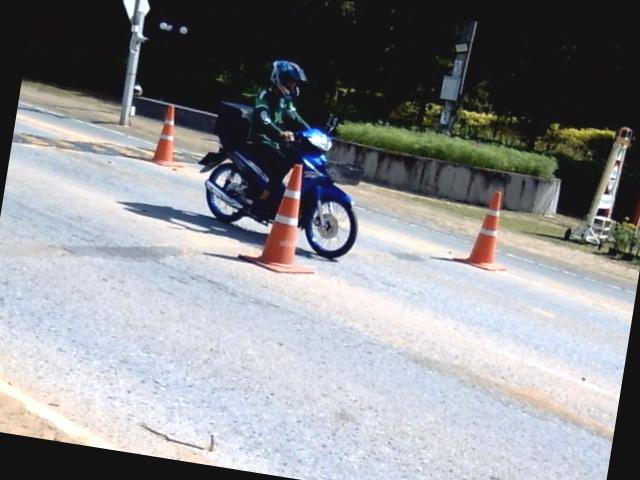helmet: (269, 59, 303, 96)
motor: (198, 102, 287, 224), (288, 128, 363, 257)
person: (251, 61, 308, 213)
